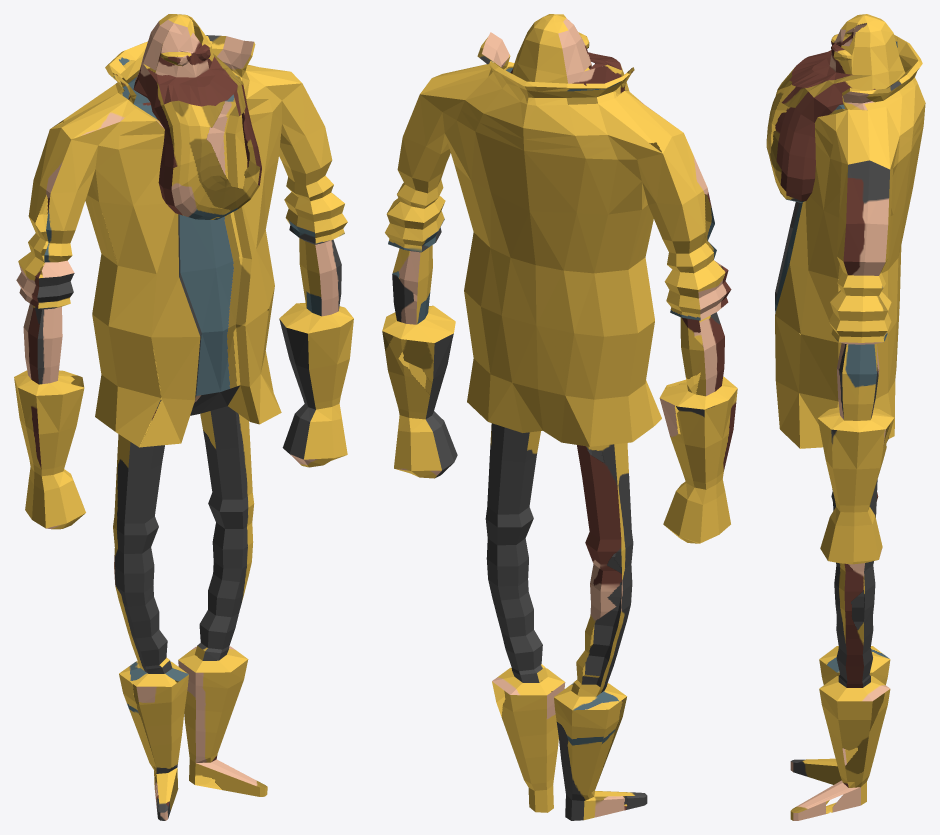
The model's file is Player.obj.
3 views of the same model, side by side, from view 1: azimuth 30°, elevation 25°; view 2: azimuth 150°, elevation 25°; view 3: azimuth 270°, elevation 25° (orthographic). The views are drawn at different scales.
Visible parts, largest first — view 1: Cylinder; view 2: Cylinder; view 3: Cylinder.
Boxes of the visible parts, bbox=[...] form: Cylinder: bbox=[14, 14, 353, 820]; Cylinder: bbox=[382, 14, 737, 820]; Cylinder: bbox=[766, 14, 925, 820].
Size of the model in its own units: 2.07 by 4.65 by 0.8599.
Materials: 6 (6 with a texture image).
